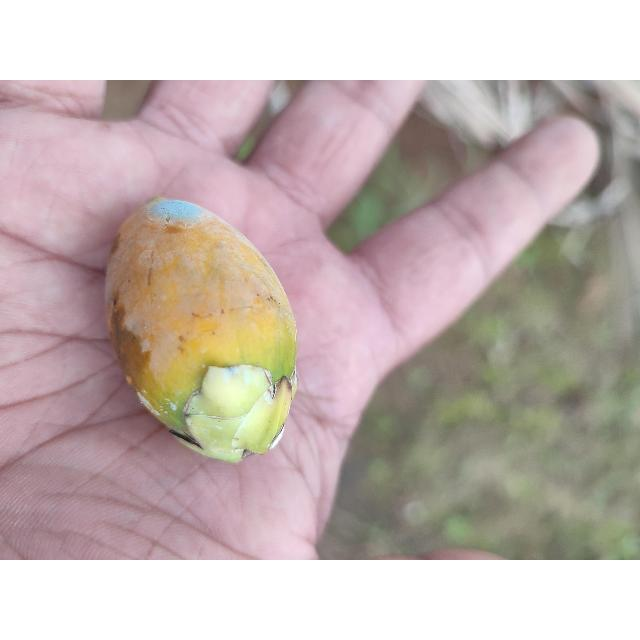good: (102, 198, 299, 466)
